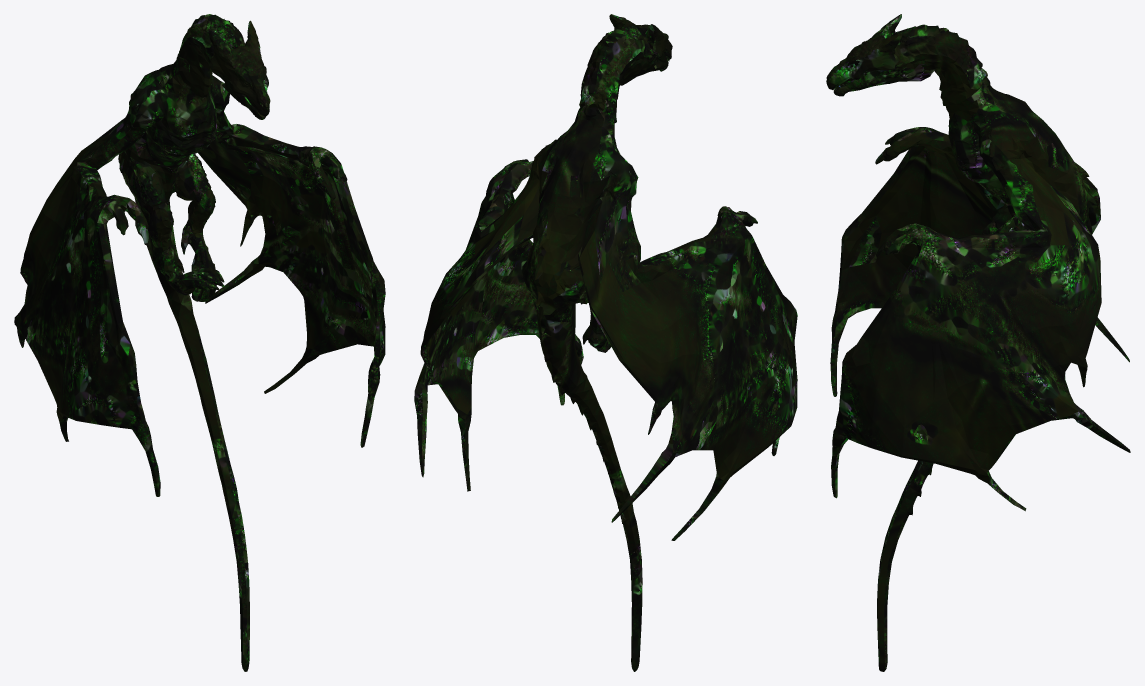
Rendered from frame_0006_uv.obj.
The picture shows the model from 3 angles, left to right: view 1: azimuth 30°, elevation 25°; view 2: azimuth 150°, elevation 25°; view 3: azimuth 270°, elevation 25°; orthographic projection. The views are drawn at different scales.
Parts seen in each view (by area): view 1: pMesh1; view 2: pMesh1; view 3: pMesh1.
Boxes of the visible parts, x1,y1,x2,y2 form: pMesh1: (14, 14, 385, 671); pMesh1: (414, 14, 797, 671); pMesh1: (826, 14, 1130, 671).
Size of the model in its own units: 5.33 by 10.67 by 4.56.
